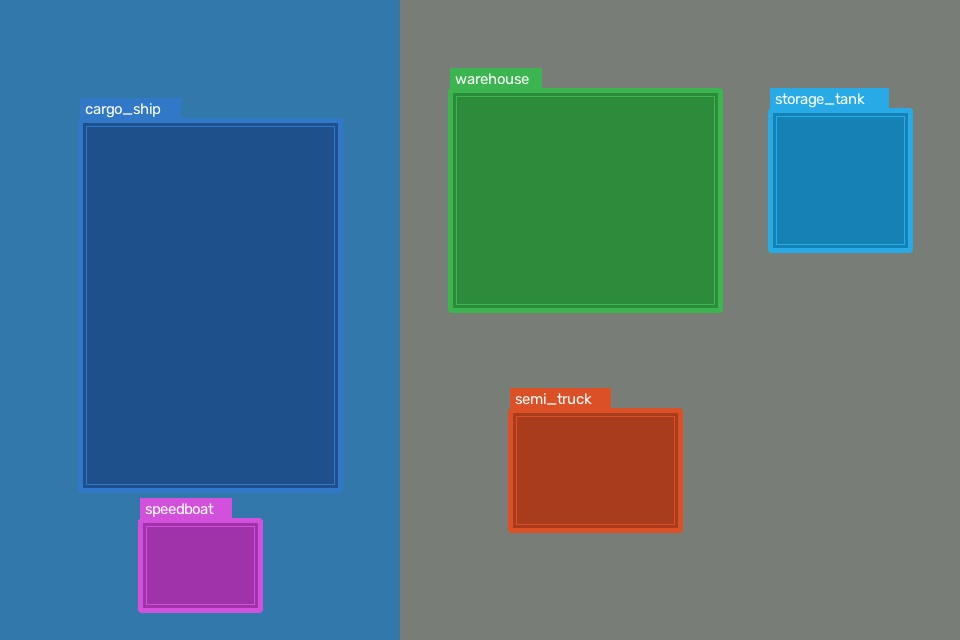cargo_ship: (80, 120, 340, 490)
semi_truck: (510, 410, 680, 530)
speedboat: (140, 520, 260, 610)
storage_tank: (770, 110, 910, 250)
warehouse: (450, 90, 720, 310)
